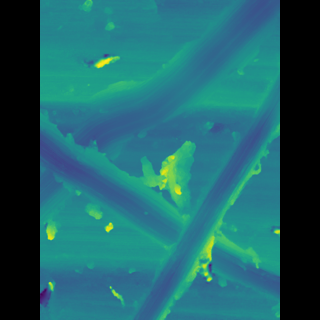Loch: (68, 0, 249, 226), (70, 107, 250, 303), (137, 69, 252, 319)
